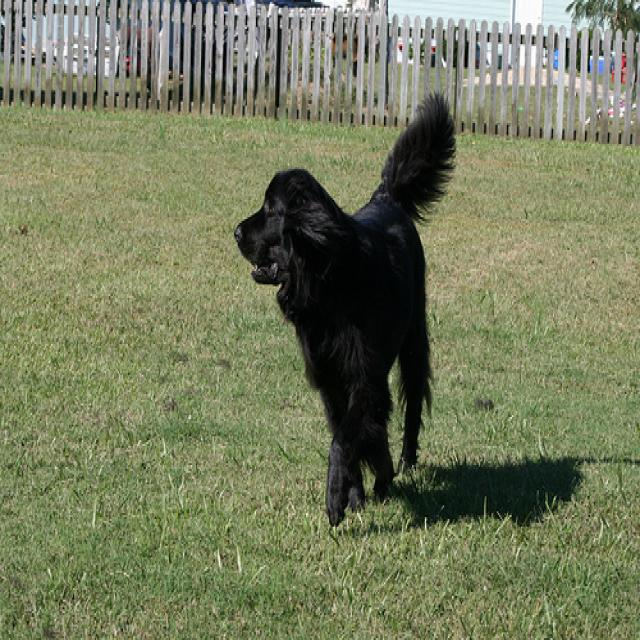dog-newfoundland: (227, 83, 465, 529)
